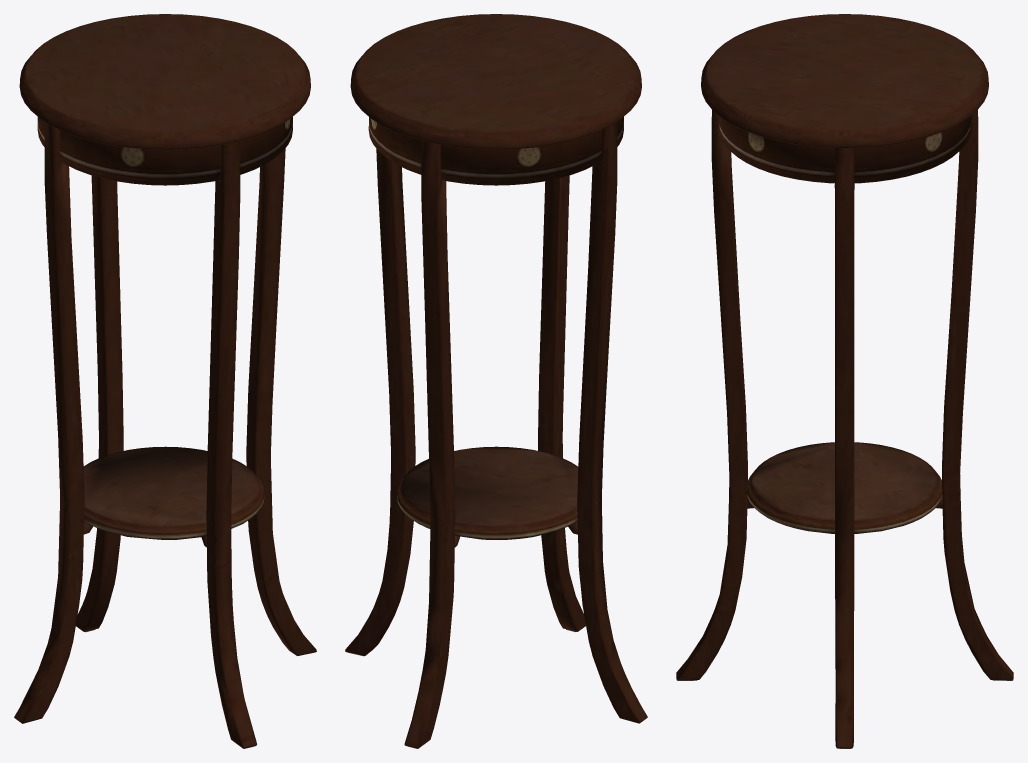
The model's file is side_table_tall_01.glb.
3 renders of one model, left to right at view 1: azimuth 30°, elevation 25°; view 2: azimuth 150°, elevation 25°; view 3: azimuth 270°, elevation 25°, orthographic.
Parts seen in each view (by area): view 1: side_table_tall_01; view 2: side_table_tall_01; view 3: side_table_tall_01.
Part boxes in pixels (x1,y1,x2,y2): side_table_tall_01: (14,14,316,748); side_table_tall_01: (345,14,647,748); side_table_tall_01: (676,14,1013,748).
Size of the model in its own units: 0.3837 by 0.7611 by 0.3837.
1 material, 1 textured.
